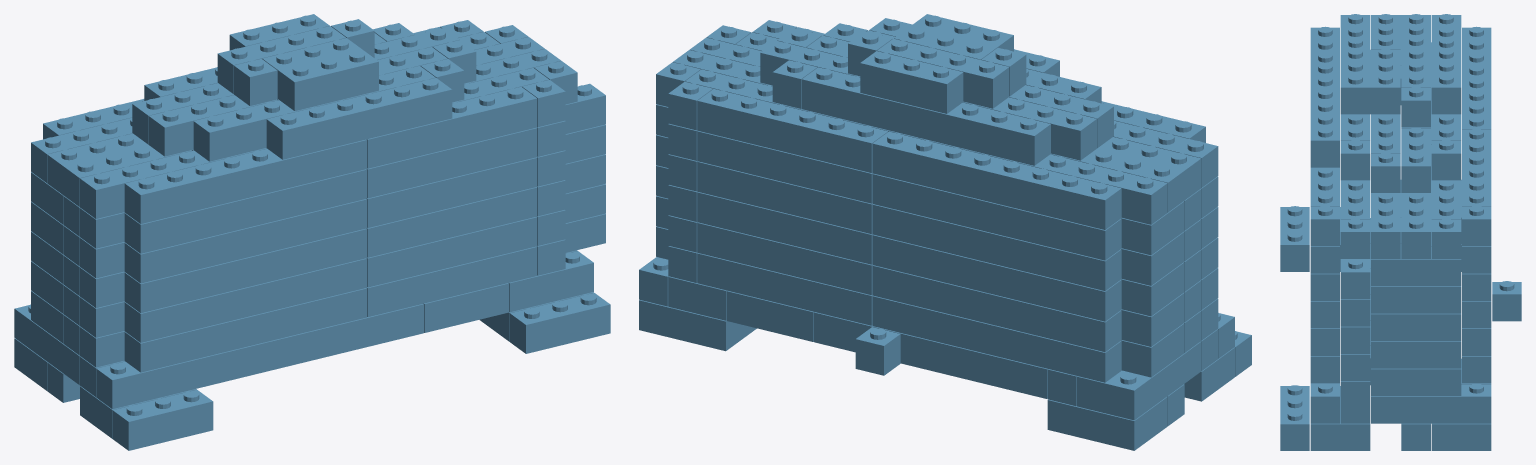
File: 149_car_L4.glb
3 views of the same model, side by side, from view 1: azimuth 30°, elevation 25°; view 2: azimuth 150°, elevation 25°; view 3: azimuth 270°, elevation 25° (orthographic). The views are drawn at different scales.
Size of the model in its own units: 17.98 by 10.13 by 7.98.
